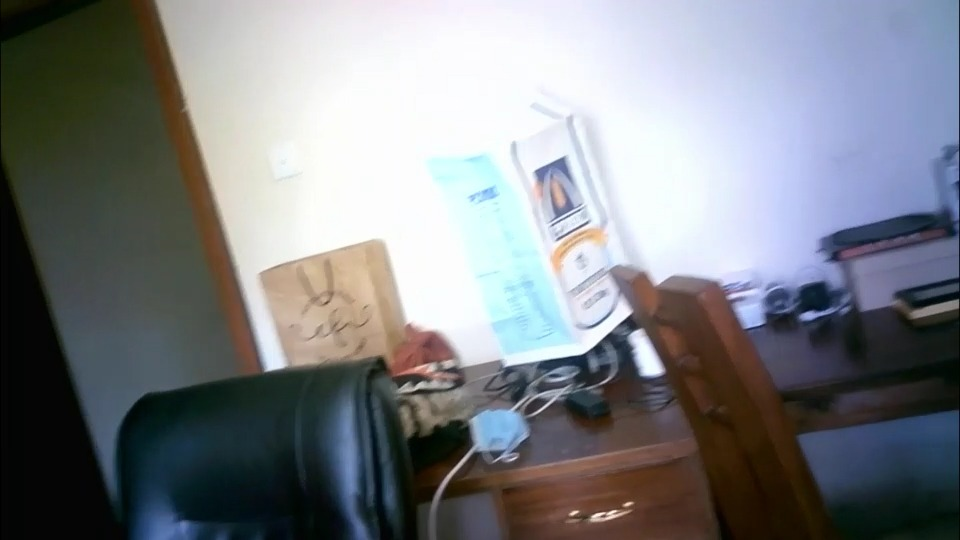wheat_flour_blue_label: (426, 96, 637, 364)
